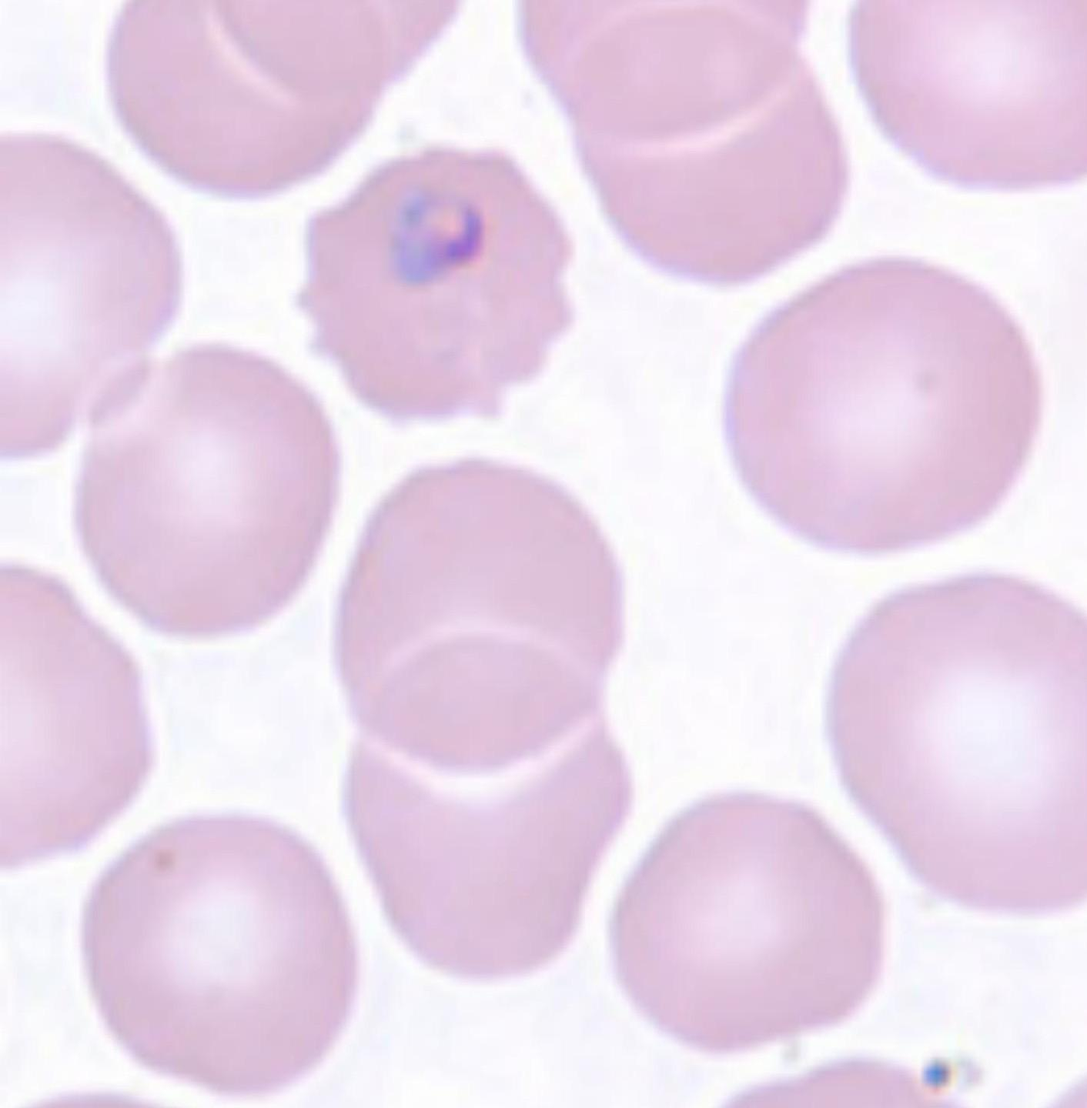Infected: (302, 147, 567, 427)
Uninfected: (343, 627, 627, 982), (724, 256, 1042, 553), (824, 570, 1087, 918), (331, 460, 623, 770), (81, 818, 360, 1093), (81, 347, 339, 640), (608, 789, 889, 1055), (574, 16, 848, 282), (0, 131, 179, 463), (106, 0, 372, 194), (0, 564, 150, 879), (845, 0, 1087, 188), (522, 0, 803, 134)
